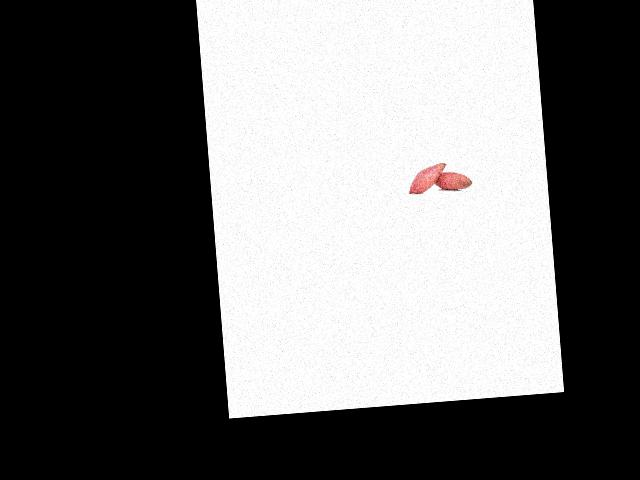sweet_potato: (430, 167, 473, 191)
